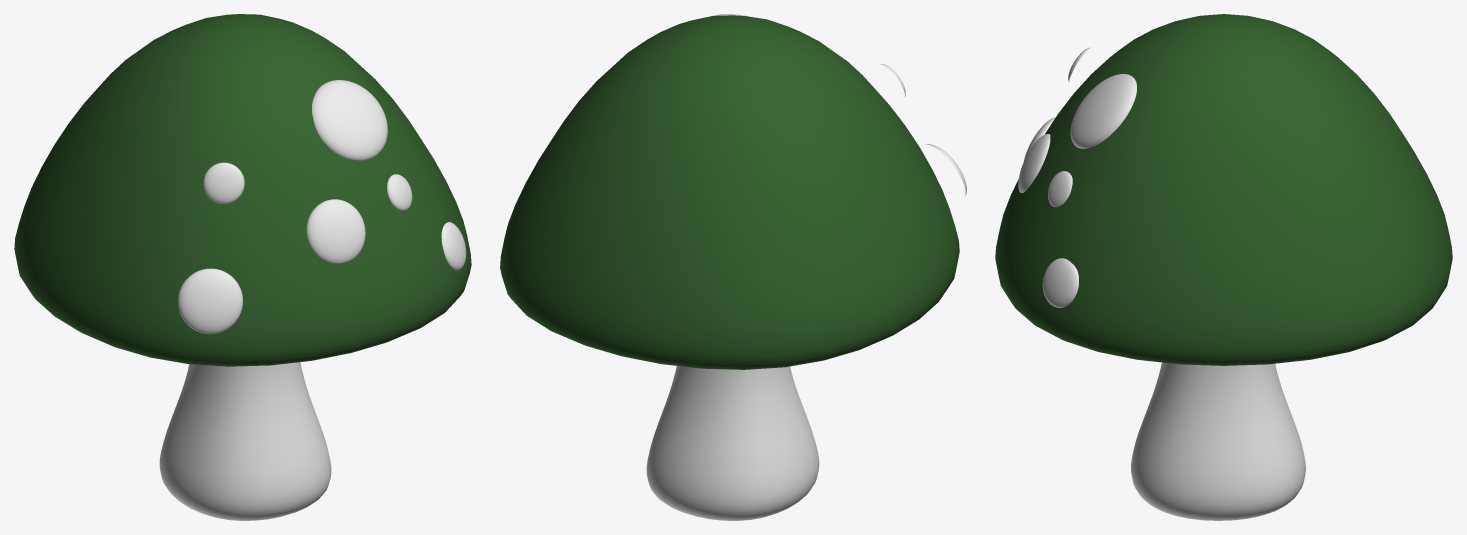
The model's file is hongo_verde.glb.
The picture shows the model from 3 angles, left to right: view 1: azimuth 30°, elevation 25°; view 2: azimuth 150°, elevation 25°; view 3: azimuth 270°, elevation 25°; orthographic projection.
Visible parts, largest first — view 1: Cubo.015, Cubo.016, Esfera.014, Esfera.017, Esfera.012, Esfera.013, Esfera.016, Esfera.015; view 2: Cubo.015, Cubo.016; view 3: Cubo.015, Cubo.016, Esfera.014, Esfera.016, Esfera.012, Esfera.015.
Boxes of the visible parts, x1,y1,x2,y2 form: Cubo.015: [14, 14, 471, 366]; Cubo.016: [159, 362, 331, 520]; Esfera.014: [312, 80, 387, 161]; Esfera.017: [178, 268, 242, 334]; Esfera.012: [306, 199, 365, 263]; Esfera.013: [203, 162, 244, 203]; Esfera.016: [441, 222, 466, 270]; Esfera.015: [387, 174, 412, 210]; Cubo.015: [500, 15, 959, 369]; Cubo.016: [646, 366, 819, 520]; Cubo.015: [995, 14, 1452, 365]; Cubo.016: [1131, 362, 1305, 520]; Esfera.014: [1070, 74, 1136, 148]; Esfera.016: [1042, 258, 1078, 307]; Esfera.012: [1018, 134, 1050, 192]; Esfera.015: [1048, 171, 1072, 207].
Size of the model in its own units: 5.2 by 6.06 by 5.3.
